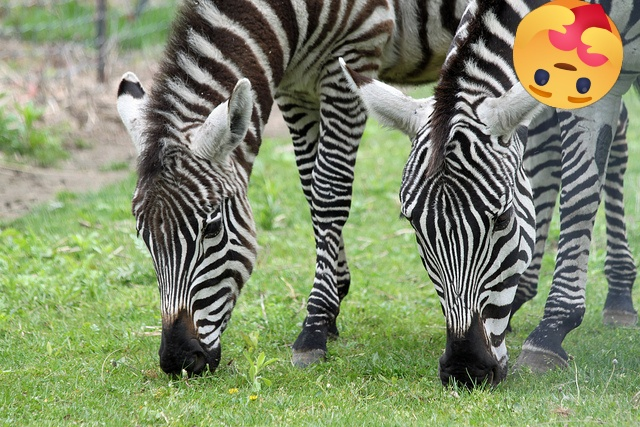care: (513, 0, 623, 109)
